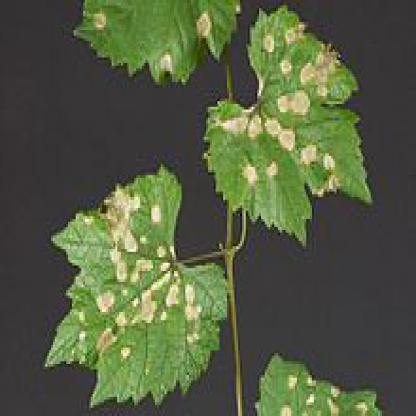grape leaf: (42, 154, 228, 414), (210, 5, 382, 246), (58, 3, 245, 93)
